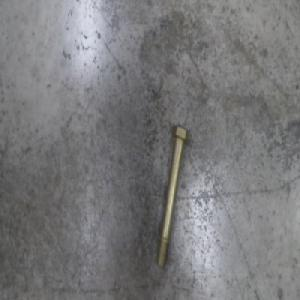Bolt: (155, 123, 189, 269)
